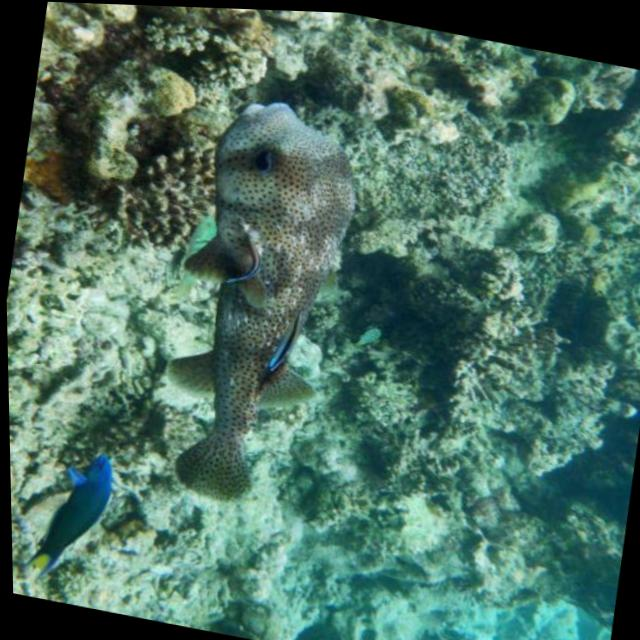Dead Coral: (286, 23, 640, 640), (0, 0, 279, 615)
